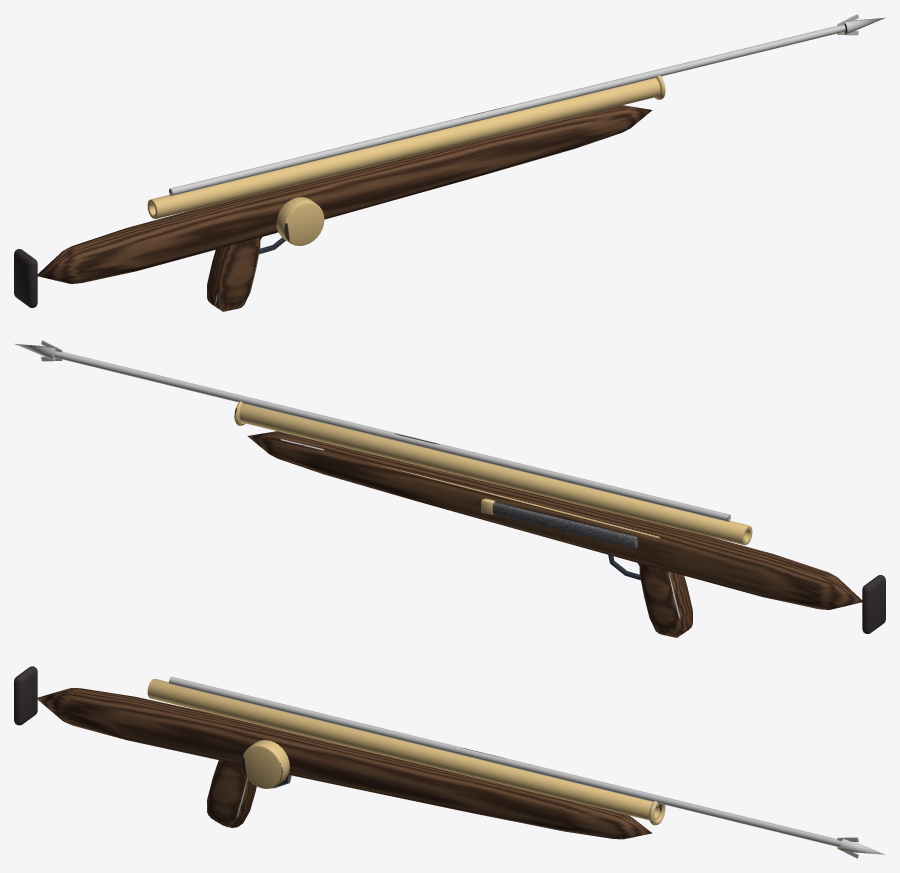
File: speargun.glb
The picture shows the model from 3 angles, top to bottom: view 1: azimuth 30°, elevation 25°; view 2: azimuth 150°, elevation 25°; view 3: azimuth 330°, elevation 25°; orthographic projection.
Parts seen in each view (by area): view 1: stock, tube0.0, spear0.0, grip, spool, butt_pad; view 2: stock, tube0.0, spear0.0, grip, cocking_lever, butt_pad; view 3: stock, tube0.0, spear0.0, grip, spool, butt_pad.
Boxes of the visible parts, left/top/right/bottom form: stock: left=37, top=105, right=652, bottom=283; tube0.0: left=147, top=78, right=660, bottom=219; spear0.0: left=169, top=25, right=845, bottom=195; grip: left=207, top=237, right=260, bottom=311; spool: left=276, top=197, right=324, bottom=245; butt_pad: left=14, top=249, right=37, bottom=307; stock: left=247, top=431, right=862, bottom=609; tube0.0: left=239, top=404, right=752, bottom=545; spear0.0: left=54, top=351, right=730, bottom=521; grip: left=639, top=563, right=692, bottom=637; cocking_lever: left=492, top=502, right=638, bottom=548; butt_pad: left=862, top=575, right=885, bottom=633; stock: left=36, top=688, right=652, bottom=839; tube0.0: left=147, top=679, right=661, bottom=820; spear0.0: left=169, top=676, right=841, bottom=847; grip: left=207, top=760, right=256, bottom=827; spool: left=242, top=740, right=289, bottom=788; butt_pad: left=14, top=666, right=37, bottom=725.
Size of the model in its own units: 0.9245 by 0.1459 by 0.074.
Materials: 1 (1 with a texture image).
